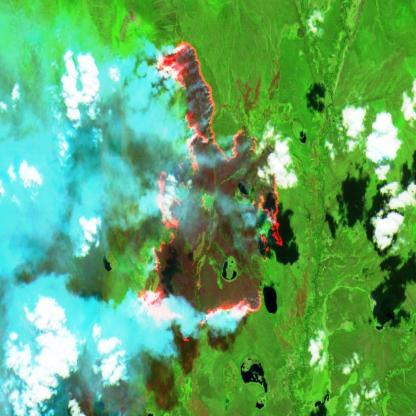fire: (130, 34, 290, 346)
